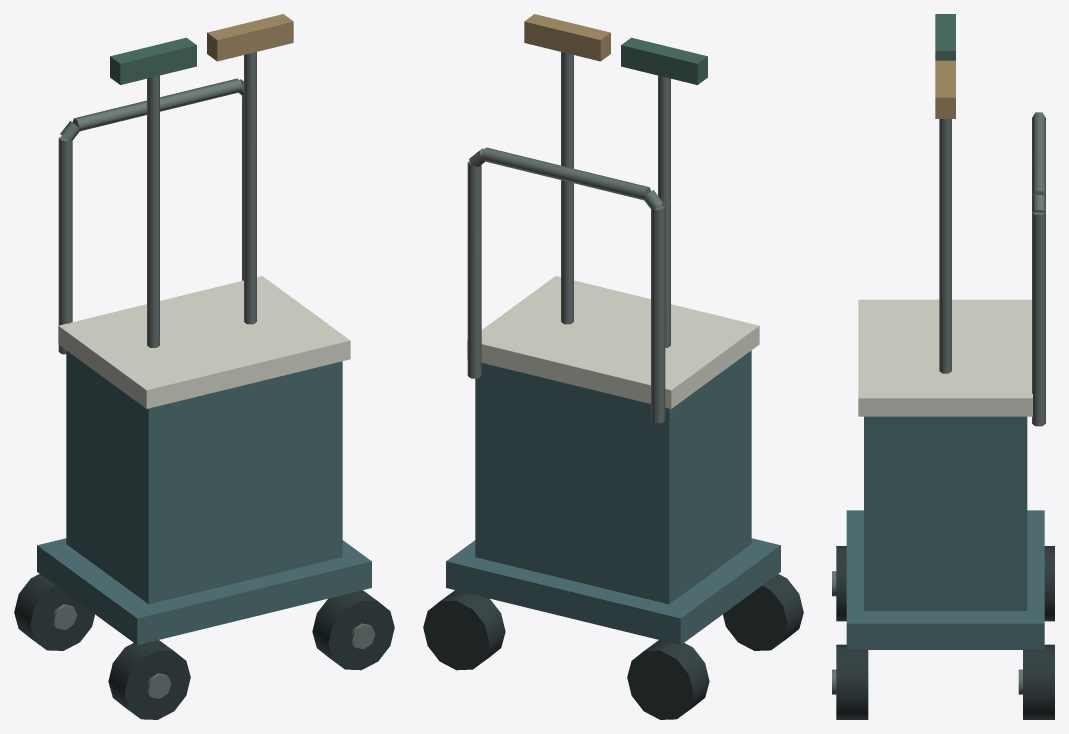
Rendered from legacy-158.glb.
The picture shows the model from 3 angles, left to right: view 1: azimuth 30°, elevation 25°; view 2: azimuth 150°, elevation 25°; view 3: azimuth 270°, elevation 25°; orthographic projection.
Parts seen in each view (by area): view 1: part-10, part-11, part-1, part-4, part-8, part-2, part-19, part-17, part-12, part-18, part-20, part-14; view 2: part-10, part-11, part-1, part-2, part-6, part-4, part-19, part-12, part-16, part-18, part-20, part-14 (+1 smaller); view 3: part-10, part-11, part-1, part-19, part-16, part-8, part-6, part-20, part-14, part-18, part-4, part-2.
Boxes of the visible parts, x1,y1,x2,y2 form: part-10: [66, 350, 342, 604]; part-11: [58, 276, 350, 408]; part-1: [37, 538, 371, 645]; part-4: [108, 640, 190, 719]; part-8: [312, 590, 394, 670]; part-2: [14, 574, 94, 650]; part-19: [244, 52, 256, 324]; part-17: [147, 75, 159, 347]; part-12: [58, 136, 72, 354]; part-18: [110, 37, 196, 84]; part-20: [207, 14, 293, 61]; part-14: [72, 78, 242, 131]; part-10: [475, 350, 751, 604]; part-11: [467, 276, 759, 408]; part-1: [446, 538, 780, 645]; part-2: [627, 640, 709, 719]; part-6: [423, 590, 505, 670]; part-4: [723, 574, 803, 650]; part-19: [561, 52, 573, 324]; part-12: [651, 204, 665, 423]; part-16: [467, 161, 481, 378]; part-18: [621, 37, 707, 84]; part-20: [524, 14, 610, 61]; part-14: [481, 147, 651, 200]; part-10: [864, 416, 1027, 610]; part-11: [858, 299, 1032, 416]; part-1: [846, 510, 1044, 649]; part-19: [939, 119, 951, 373]; part-16: [1032, 212, 1045, 426]; part-8: [836, 644, 868, 719]; part-6: [1023, 644, 1054, 719]; part-20: [935, 60, 955, 118]; part-14: [1032, 112, 1045, 196]; part-18: [935, 14, 955, 60]; part-4: [836, 546, 846, 621]; part-2: [1044, 546, 1054, 621].
Size of the model in its own units: 0.53 by 1.15 by 0.3825.
